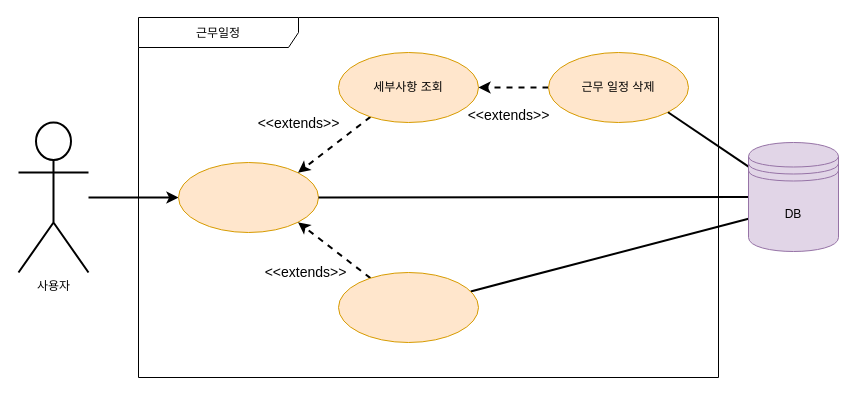
Image size: 856x395. Some labels were removed from this diagram. Here are the shapes that lost their labels. From the top down, the box of each, then its label:
(178, 162, 318, 232): 근무 일정 조회
(338, 272, 478, 342): 근무일정 등록
